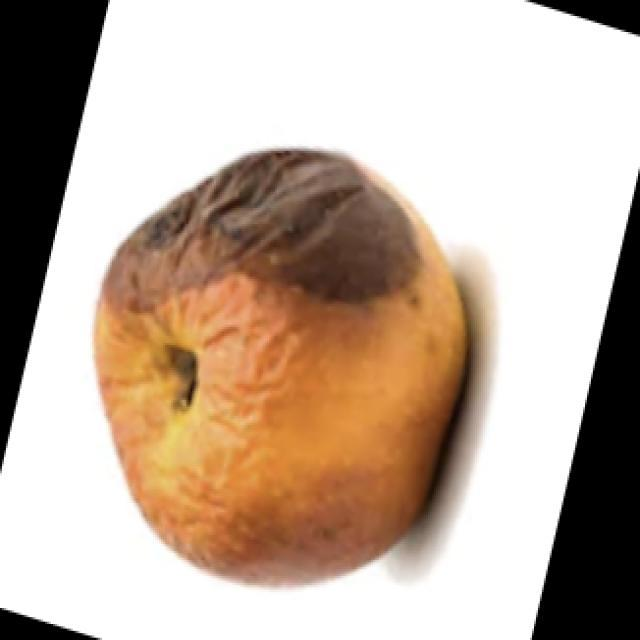Rotten: (90, 145, 485, 575)
